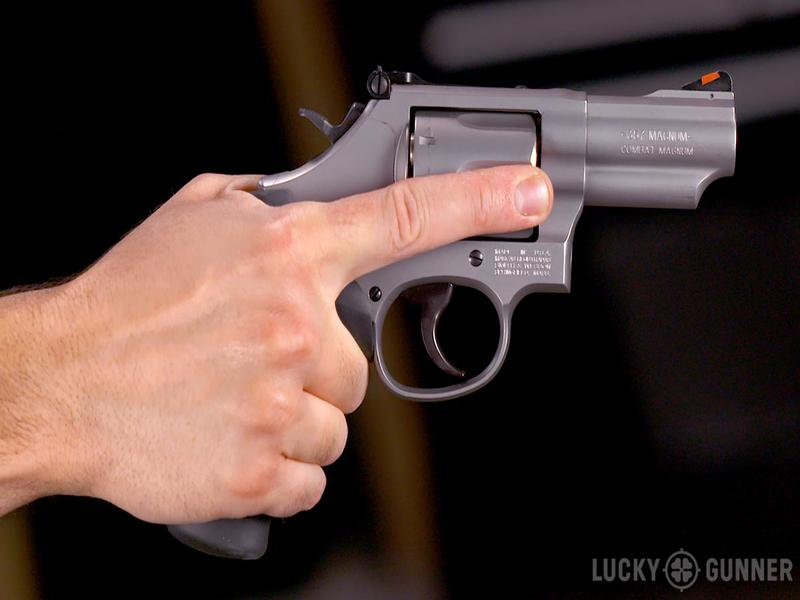Revolver: (257, 47, 743, 408)
